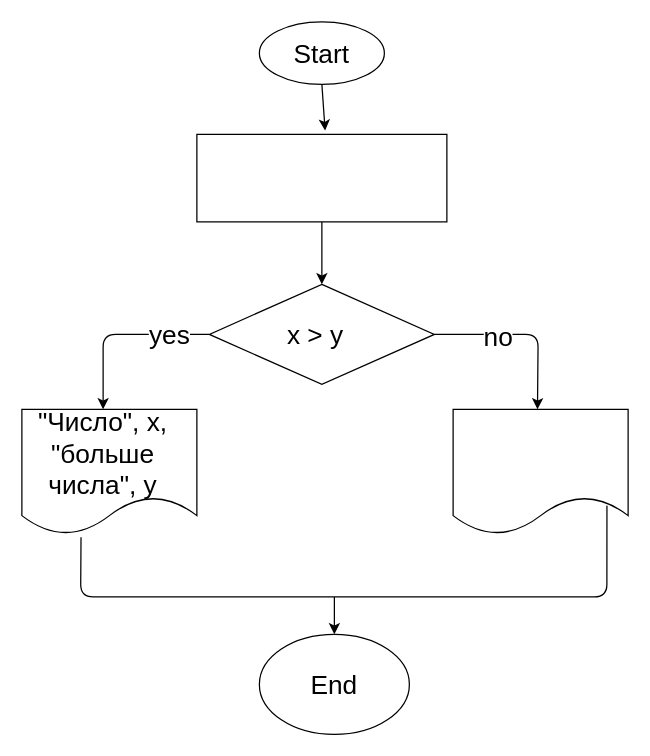
Some shapes in this 650 by 756 pixel diagram are drawn without their labels. The shapes that lost their labels are listed below. From the top down, each one's box as (x1, y1, x2, y2) in pixels, then its label:
(196, 133, 447, 222): x = Random(1, 101) y = Random(1, 101)
(452, 408, 628, 534): "Число", y, "больше числа", x
